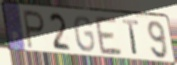2: (49, 12, 73, 54)
9: (146, 20, 169, 61)
E: (93, 15, 124, 58)
G: (73, 15, 96, 54)
P: (22, 9, 46, 51)
T: (121, 18, 140, 57)
